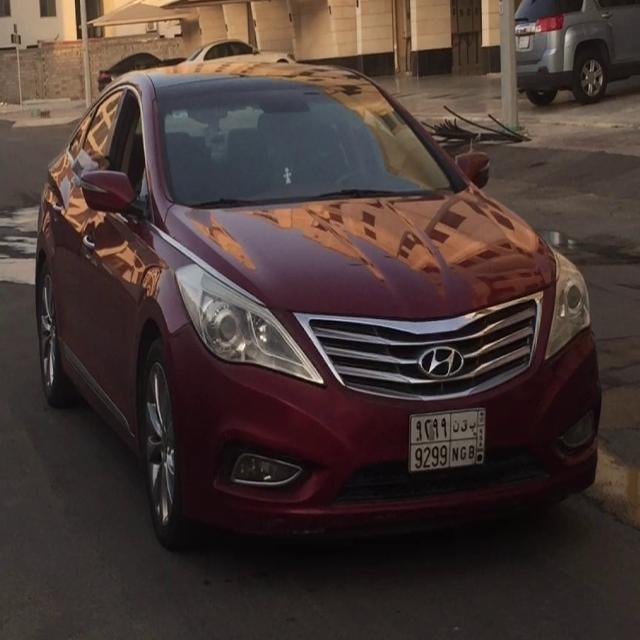Car-plate: (401, 404, 493, 490)
